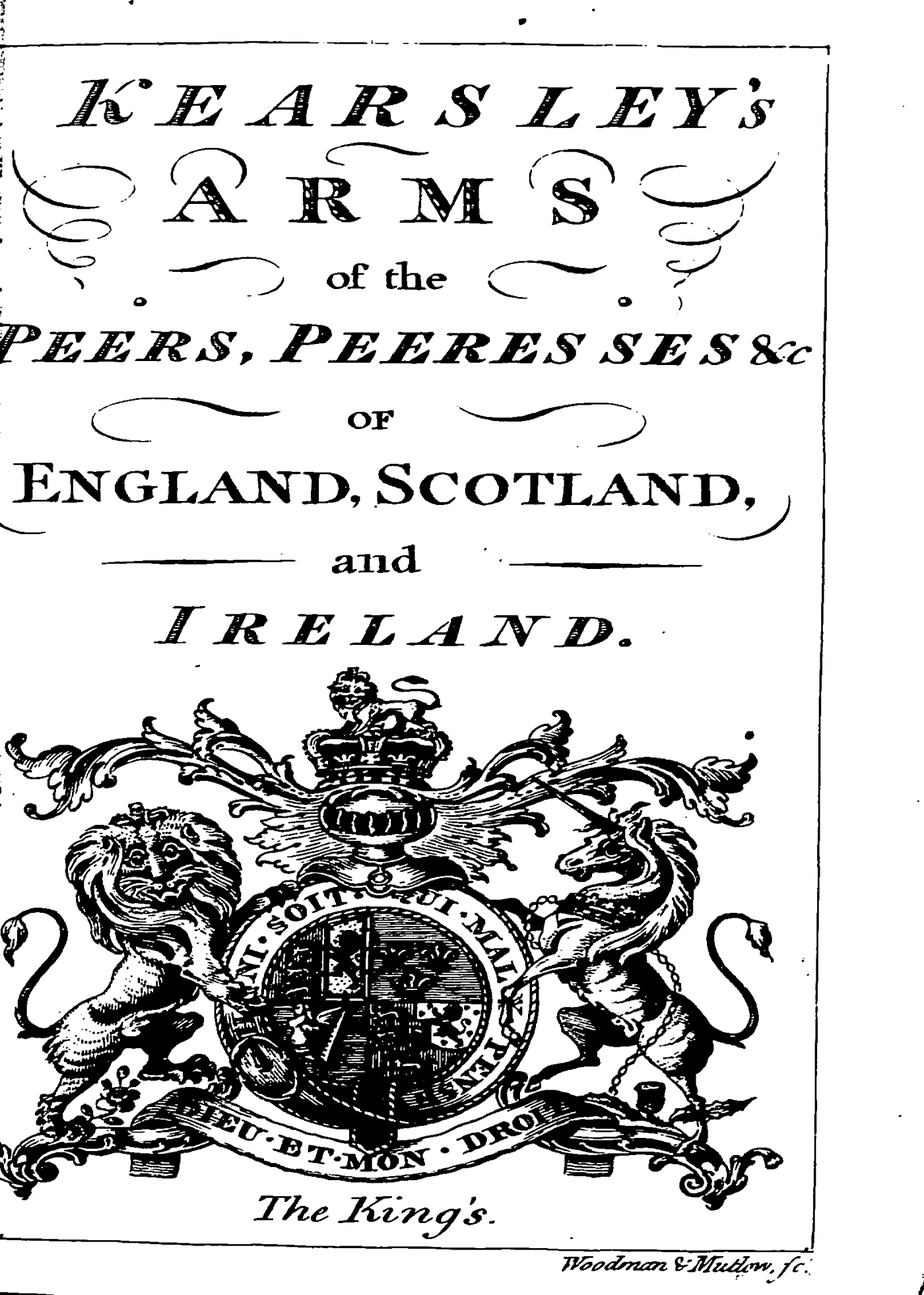coat_of_arms: (7, 640, 798, 1245)
